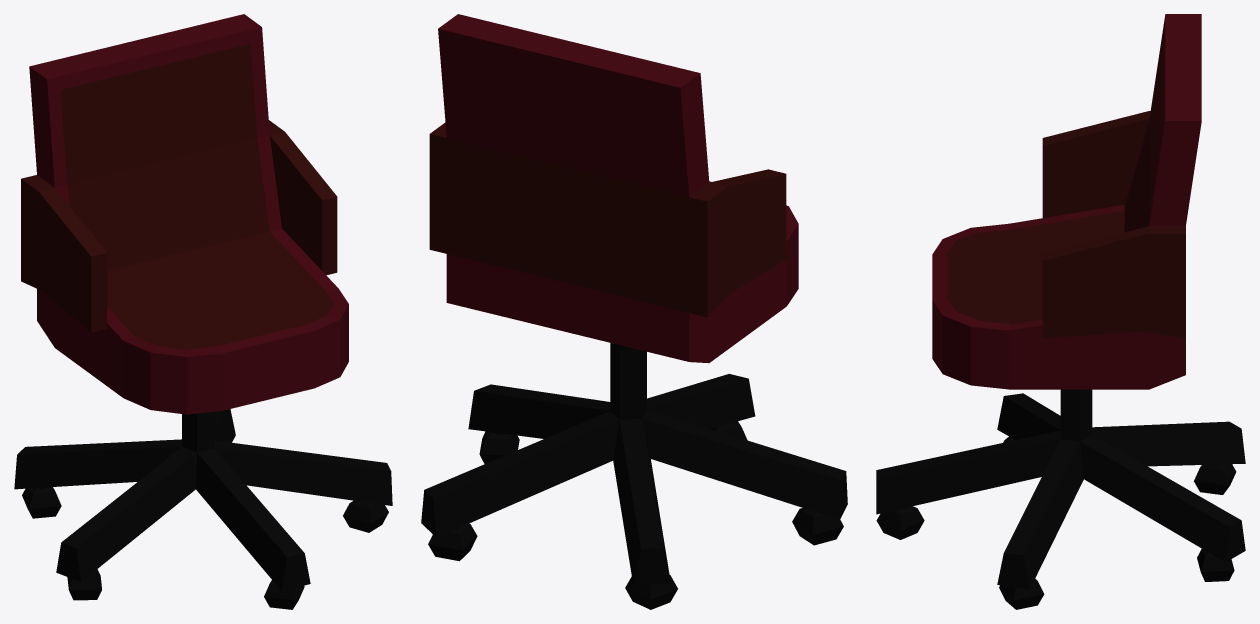
The model's file is GamingChair.fbx.
3 renders of one model, left to right at view 1: azimuth 30°, elevation 25°; view 2: azimuth 150°, elevation 25°; view 3: azimuth 270°, elevation 25°, orthographic. The views are drawn at different scales.
Parts seen in each view (by area): view 1: GamingChair; view 2: GamingChair; view 3: GamingChair.
Part boxes in pixels (x1,y1,x2,y2): GamingChair: (14,14,392,609); GamingChair: (421,14,847,609); GamingChair: (876,14,1245,609).
Size of the model in its own units: 1331 by 1779 by 1266.
